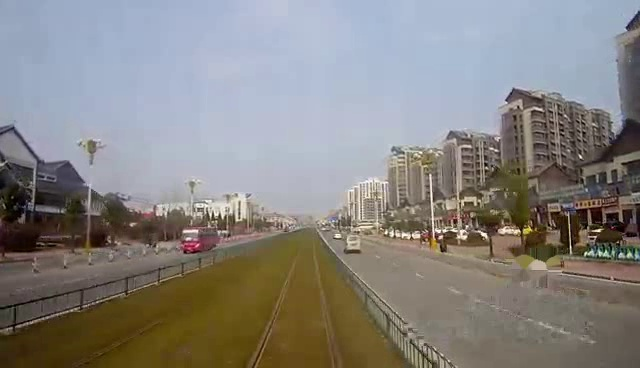bus: (179, 226, 226, 256)
car: (343, 232, 363, 255)
